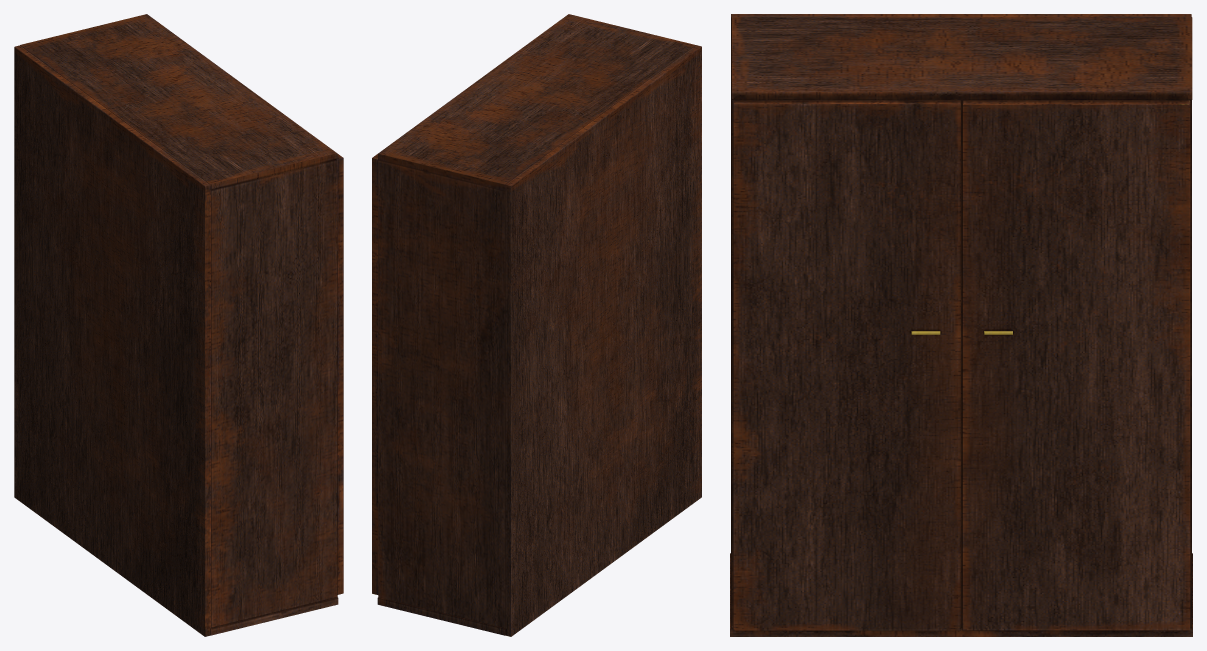
The model's file is w_cabinet.fbx.
The picture shows the model from 3 angles, left to right: view 1: azimuth 30°, elevation 25°; view 2: azimuth 150°, elevation 25°; view 3: azimuth 270°, elevation 25°; orthographic projection. The views are drawn at different scales.
Parts seen in each view (by area): view 1: pCube12, pCube14; view 2: pCube12, pCube13; view 3: pCube13, pCube14, pCube12.
Boxes of the visible parts, x1,y1,x2,y2 form: pCube12: [14, 14, 338, 636]; pCube14: [337, 154, 343, 594]; pCube12: [377, 14, 701, 636]; pCube13: [372, 154, 378, 594]; pCube13: [962, 100, 1190, 630]; pCube14: [733, 100, 960, 630]; pCube12: [730, 14, 1192, 636].
Bounding box in the file's own units: 147 × 448 × 344.
Materials: 1 (1 with a texture image).
